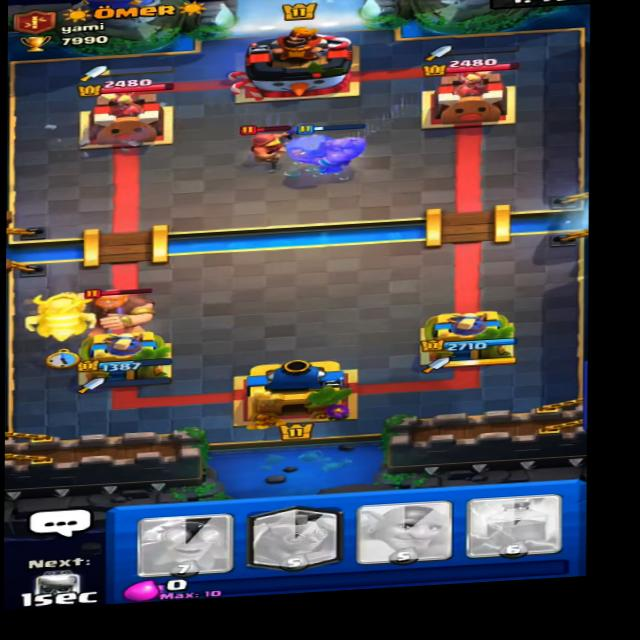fisherman: (235, 120, 296, 167)
giant: (61, 280, 183, 347)
